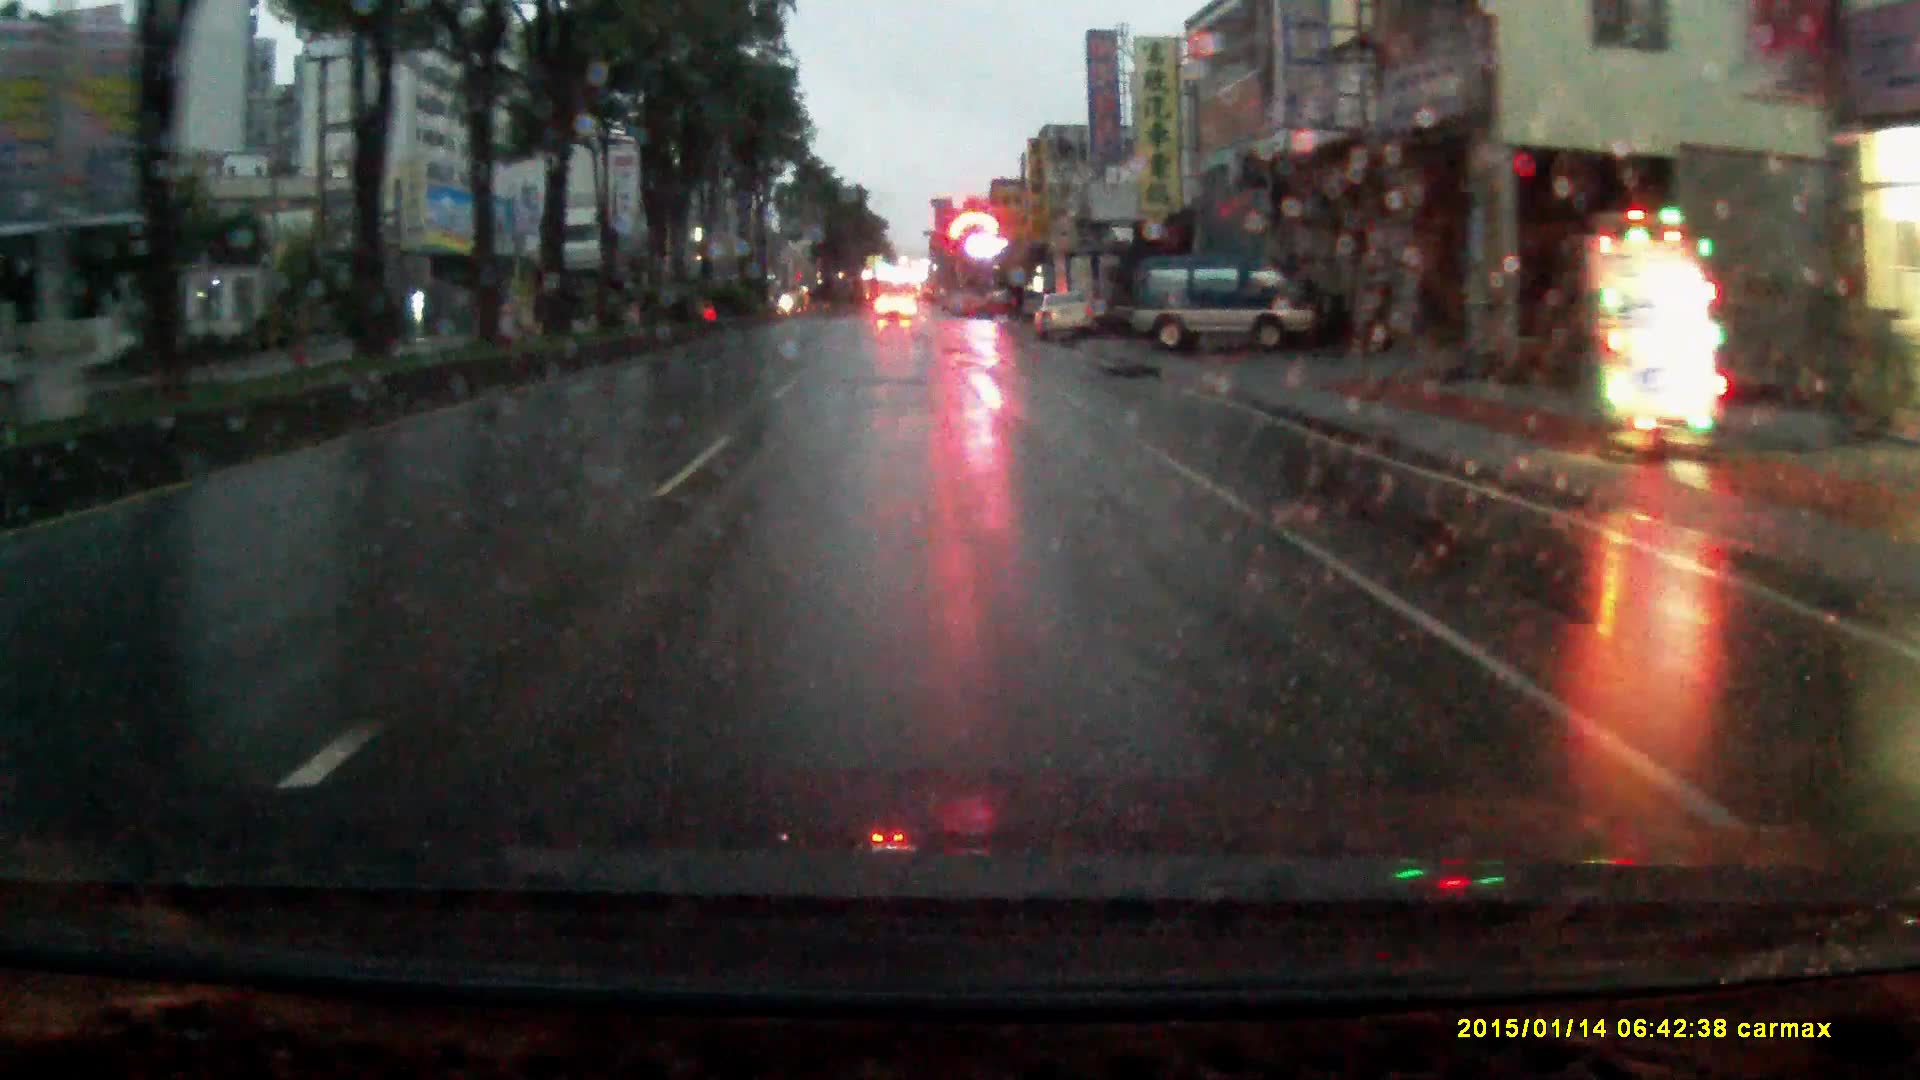vehicle: (1127, 256, 1335, 360), (1051, 249, 1125, 339), (1033, 289, 1097, 345), (876, 294, 915, 324)
